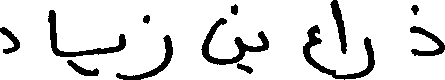ا: (330, 0, 347, 55), (48, 7, 60, 57)
د: (0, 25, 30, 55)
ذ: (407, 2, 443, 56)
ر: (345, 35, 375, 79)
ز: (124, 12, 171, 78)
ع: (301, 23, 322, 74)
ن: (198, 2, 245, 73)
ي: (66, 31, 126, 76), (245, 28, 270, 72)
